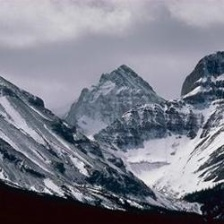neutral: (1, 16, 224, 213)
